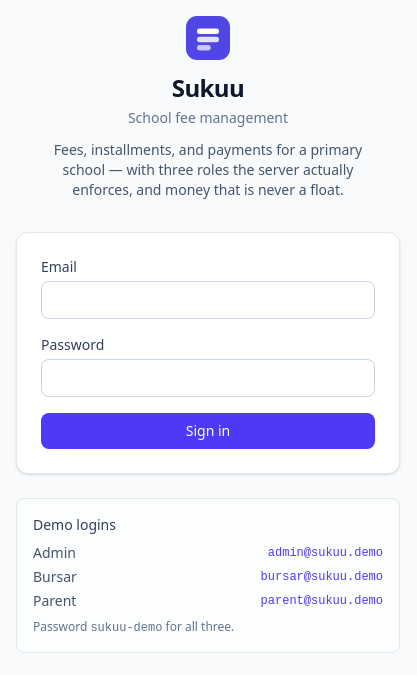
Scenario: the sleeping demo server › explains itself once the wait gets long
Type "admin@sukuu.demo" into the field labelled "Email".
click(208, 300); type("admin@sukuu.demo")  # box [41,281,375,319]
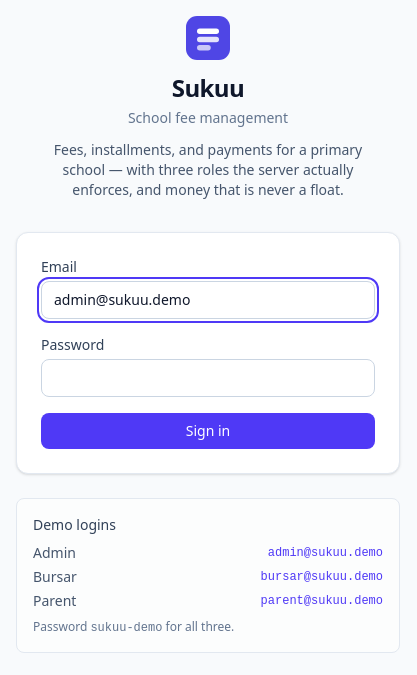
Type "sukuu-demo" into the password field labelled "Password".
click(208, 378); type("sukuu-demo")  # box [41,359,375,397]
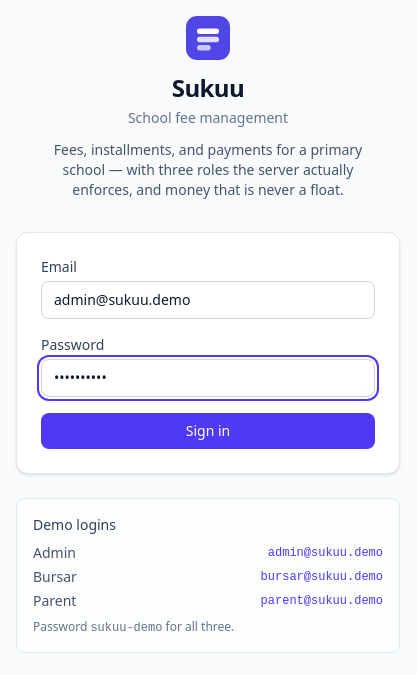
Click the button "Sign in".
click(208, 431)  # box [41,413,375,449]
Wait 3500 ms
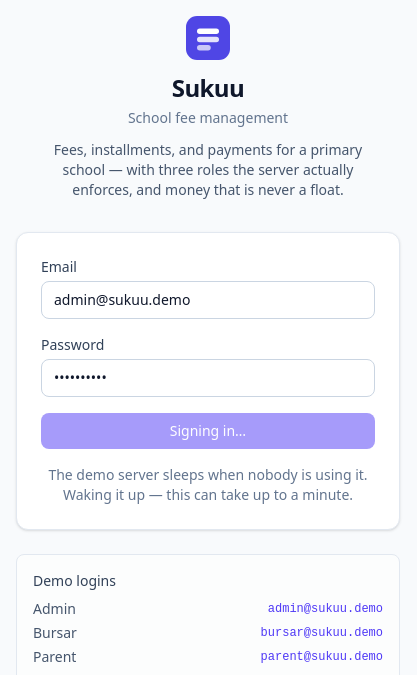
Expected: the text "sleeps when nobody" is shown, [48,465,368,504]
